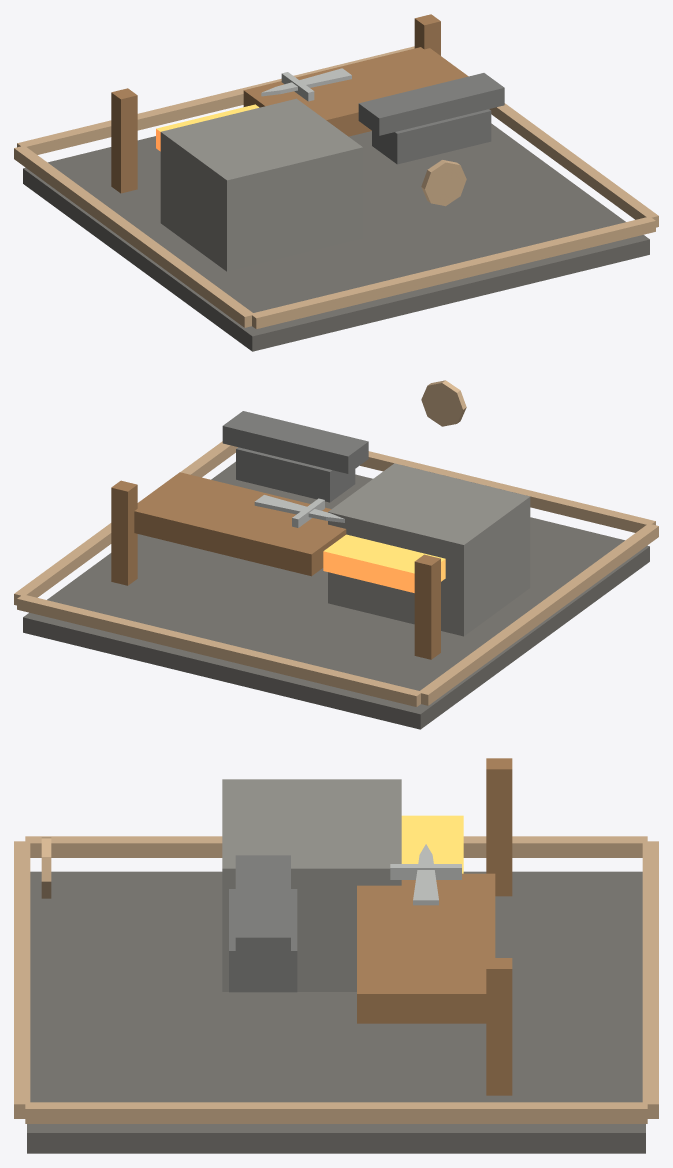
The model's file is t2_weapon_smith.glb.
3 views of the same model, one above another, from view 1: azimuth 30°, elevation 25°; view 2: azimuth 150°, elevation 25°; view 3: azimuth 270°, elevation 25° (orthographic). The views are drawn at different scales.
Visible parts, largest first — view 1: FootprintBase, ForgeBody, WorkTable, TierFrontTrim, AnvilTop, TierLeftTrim, TierBackTrim, AnvilBody, TierRightTrim, RackPostL, TierEmblem, RackPostR (+2 smaller); view 2: FootprintBase, ForgeBody, WorkTable, TierBackTrim, AnvilTop, TierLeftTrim, ForgeGlow, AnvilBody, TierFrontTrim, TierRightTrim, RackPostL, RackPostR (+2 smaller); view 3: FootprintBase, ForgeBody, WorkTable, TierRightTrim, TierLeftTrim, AnvilTop, TierFrontTrim, TierBackTrim, RackPostR, RackPostL, AnvilBody, ForgeGlow (+3 smaller).
Part boxes in pixels (bbox=[...]): FootprintBase: bbox=[23, 123, 649, 351]; ForgeBody: bbox=[160, 98, 362, 271]; WorkTable: bbox=[243, 47, 468, 136]; TierFrontTrim: bbox=[251, 216, 655, 329]; AnvilTop: bbox=[358, 73, 504, 135]; TierLeftTrim: bbox=[14, 145, 254, 327]; TierBackTrim: bbox=[17, 46, 414, 154]; AnvilBody: bbox=[372, 109, 491, 164]; TierRightTrim: bbox=[489, 103, 658, 227]; RackPostL: bbox=[111, 88, 137, 193]; TierEmblem: bbox=[421, 160, 466, 206]; RackPostR: bbox=[414, 14, 440, 55]; FootprintBase: bbox=[23, 461, 649, 729]; ForgeBody: bbox=[328, 463, 530, 636]; WorkTable: bbox=[134, 472, 346, 576]; TierBackTrim: bbox=[17, 595, 422, 706]; AnvilTop: bbox=[222, 411, 368, 473]; TierLeftTrim: bbox=[420, 524, 658, 705]; ForgeGlow: bbox=[323, 534, 445, 592]; AnvilBody: bbox=[236, 447, 355, 502]; TierFrontTrim: bbox=[360, 451, 655, 532]; TierRightTrim: bbox=[14, 441, 237, 605]; RackPostL: bbox=[414, 554, 440, 659]; RackPostR: bbox=[111, 480, 137, 585]; FootprintBase: bbox=[27, 871, 645, 1153]; ForgeBody: bbox=[222, 779, 401, 991]; WorkTable: bbox=[357, 873, 495, 1023]; TierRightTrim: bbox=[25, 1102, 647, 1123]; TierLeftTrim: bbox=[25, 836, 647, 857]; AnvilTop: bbox=[235, 855, 290, 961]; TierFrontTrim: bbox=[14, 841, 30, 1118]; TierBackTrim: bbox=[642, 841, 658, 1118]; RackPostR: bbox=[486, 958, 512, 1095]; RackPostL: bbox=[486, 758, 512, 896]; AnvilBody: bbox=[229, 889, 297, 992]; ForgeGlow: bbox=[401, 815, 463, 873].
Size of the model in its own units: 3.96 by 1.25 by 3.96.
